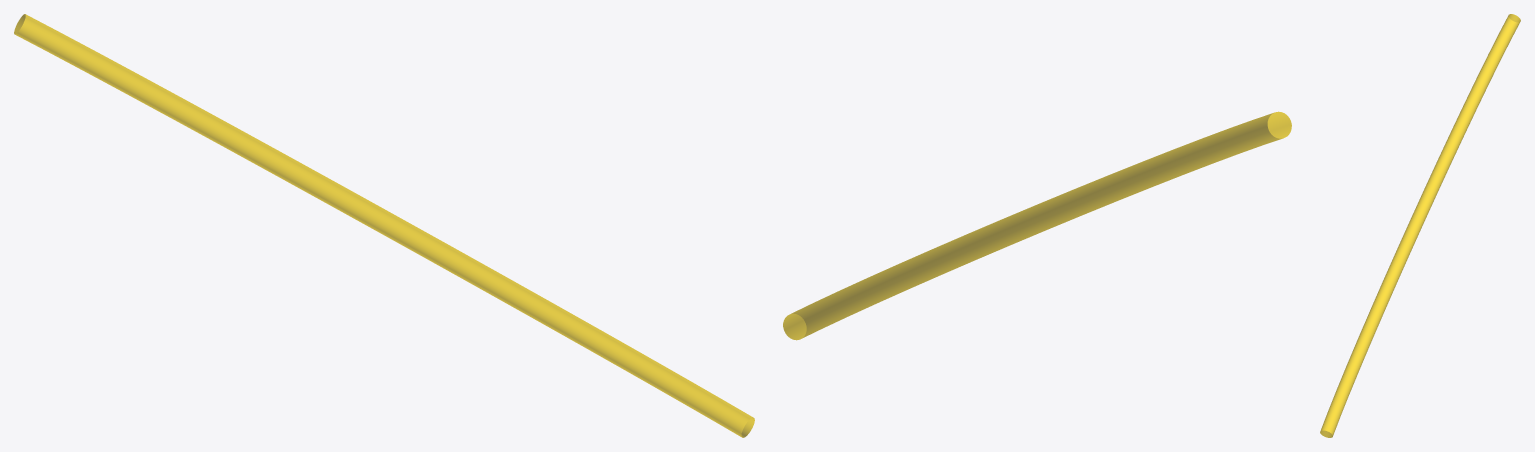
Rendered from Event_17758602_track_138.fbx.
The picture shows the model from 3 angles, left to right: view 1: azimuth 30°, elevation 25°; view 2: azimuth 150°, elevation 25°; view 3: azimuth 270°, elevation 25°; orthographic projection. The views are drawn at different scales.
Visible parts, largest first — view 1: Model; view 2: Model; view 3: Model.
Part boxes in pixels (<box>): Model: <box>14,14,754,437</box>; Model: <box>783,111,1291,340</box>; Model: <box>1320,14,1520,437</box>.
Size of the model in its own units: 1.16 by 0.8463 by 0.5875.
